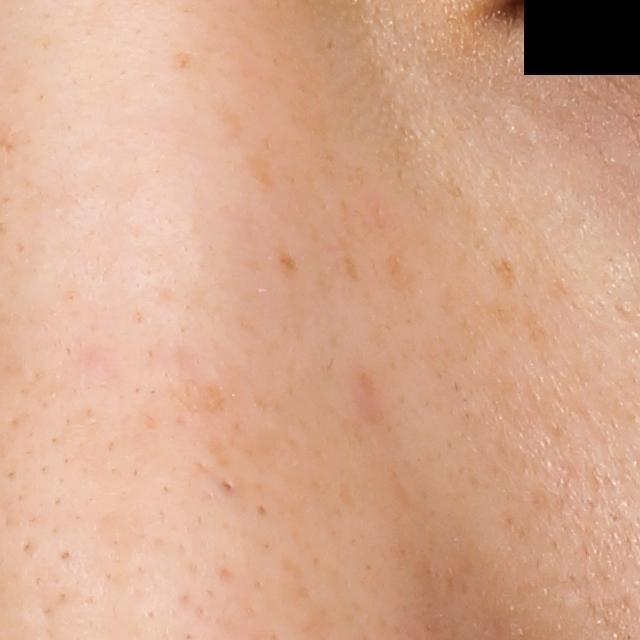comedo: (216, 476, 242, 498)
melasma: (210, 99, 250, 153), (513, 303, 551, 358), (384, 253, 421, 292), (489, 256, 519, 287), (277, 242, 302, 275)
